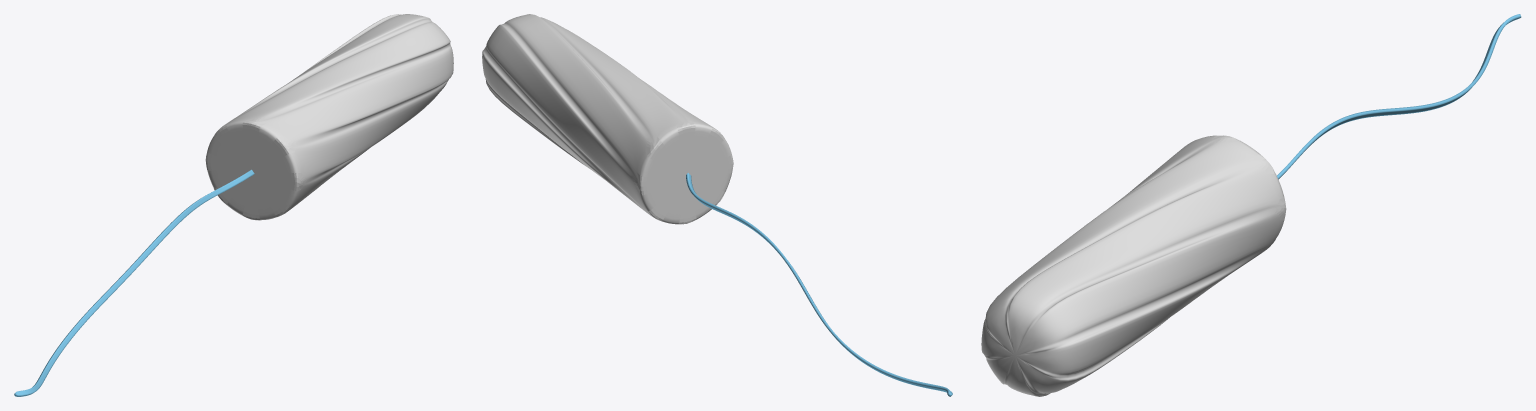
File: Tampon.fbx
The picture shows the model from 3 angles, left to right: view 1: azimuth 90°, elevation 25°; view 2: azimuth 150°, elevation 25°; view 3: azimuth 270°, elevation 25°; orthographic projection. The views are drawn at different scales.
Parts seen in each view (by area): view 1: Circle; view 2: Circle; view 3: Circle.
Part boxes in pixels (x1,y1,x2,y2): Circle: (14,14,453,396); Circle: (482,14,952,396); Circle: (981,14,1521,396).
Size of the model in its own units: 276 by 40.7 by 161.
